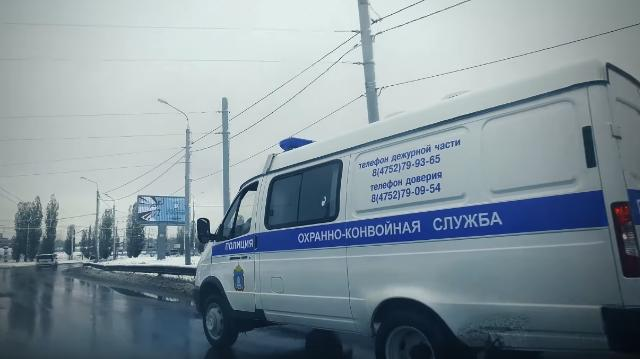non emergency car: (34, 253, 58, 273)
police car: (186, 52, 639, 359)
